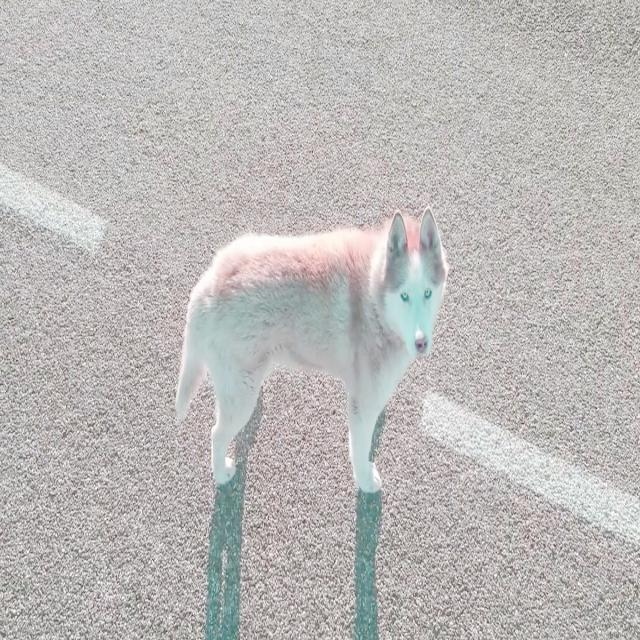Dog: (175, 205, 450, 494)
